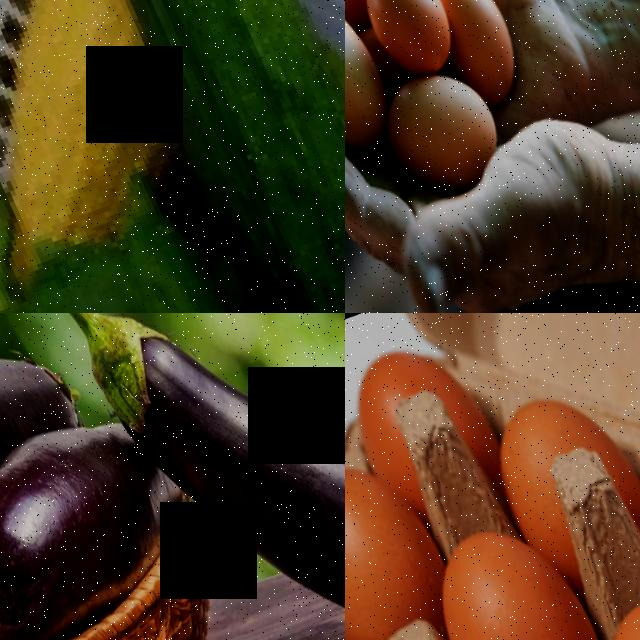cucumber: (34, 0, 345, 313)
egg_: (407, 491, 612, 640), (372, 44, 514, 202), (345, 438, 452, 640), (427, 0, 535, 102), (345, 0, 463, 80), (345, 0, 400, 153)
eggplant: (90, 313, 345, 640), (0, 381, 199, 640), (0, 313, 88, 529)
